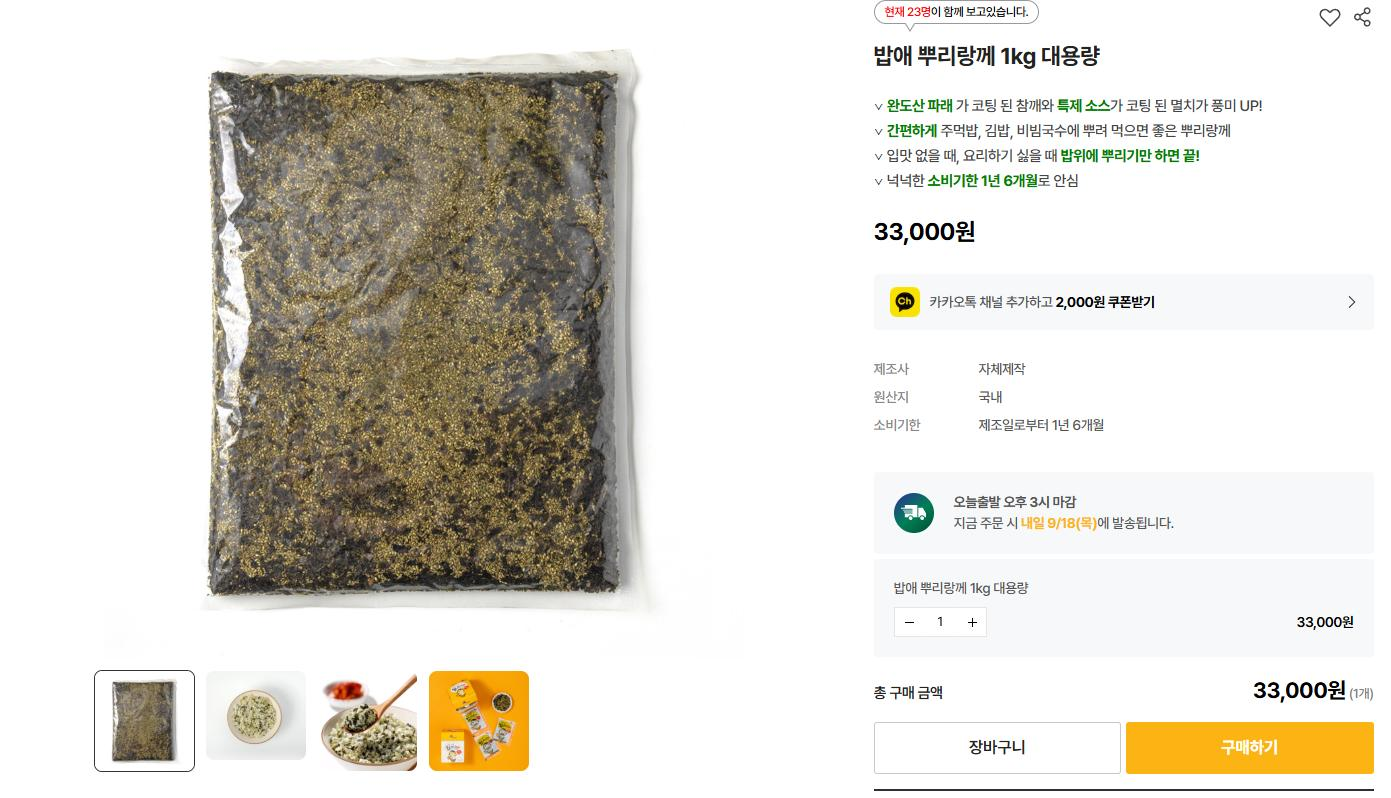button: (873, 274, 1374, 328), (1127, 722, 1376, 775), (874, 721, 1119, 773), (428, 667, 533, 775), (92, 666, 197, 773), (318, 665, 420, 774), (206, 666, 309, 766), (893, 607, 988, 637), (1313, 1, 1348, 37), (1349, 3, 1379, 35)
popup: (873, 2, 1047, 38)
